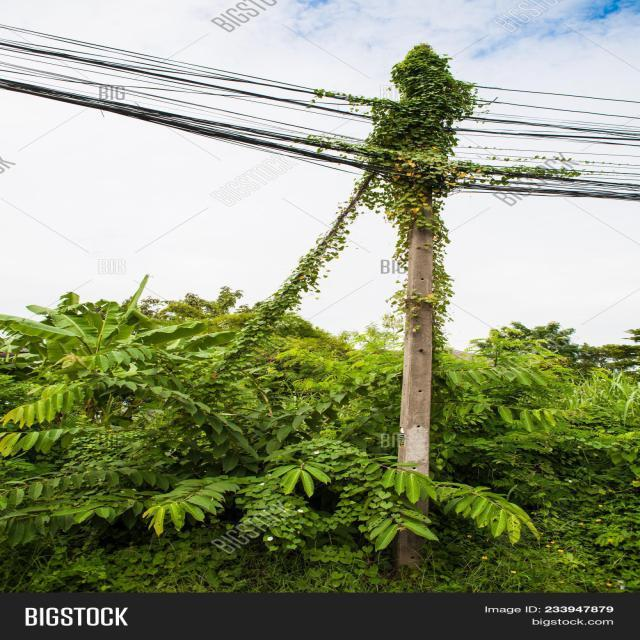light_pole: (225, 26, 596, 262)
